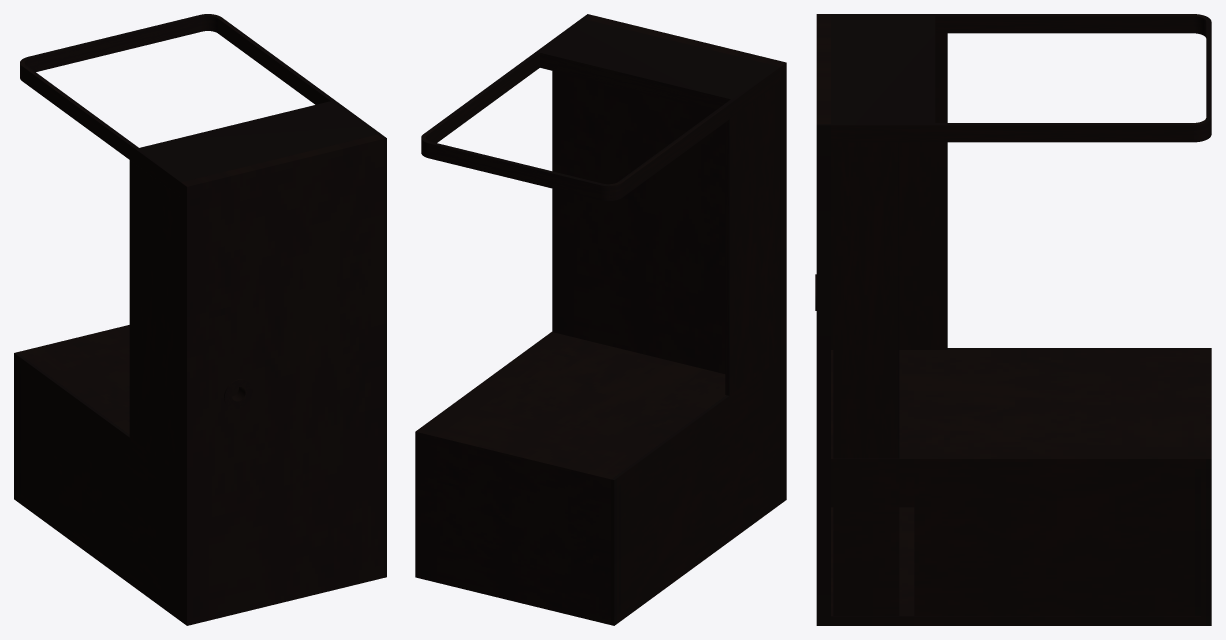
Rendered from desk-zlyqcq-0.obj.
3 views of the same model, side by side, from view 1: azimuth 30°, elevation 25°; view 2: azimuth 150°, elevation 25°; view 3: azimuth 270°, elevation 25° (orthographic). The views are drawn at different scales.
Bounding box in the file's own units: 0.5 × 1.05 × 0.7525.
Materials: 1 (1 with a texture image).
